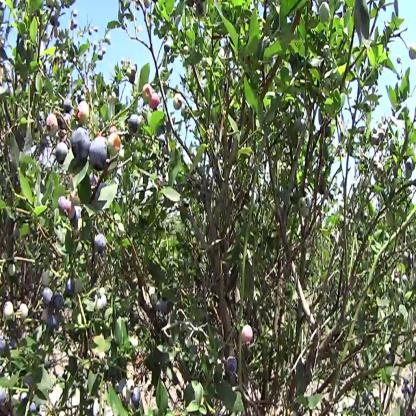intermediate: (143, 84, 161, 109), (58, 197, 76, 220), (241, 326, 253, 344)
mature: (72, 129, 109, 170), (45, 289, 65, 311), (56, 143, 70, 166), (95, 233, 107, 254), (48, 314, 61, 333), (226, 359, 237, 376), (1, 391, 10, 410)
young: (77, 102, 91, 125), (110, 135, 122, 157), (47, 112, 57, 136), (320, 3, 330, 24), (19, 305, 30, 324), (3, 303, 14, 321), (127, 379, 136, 397), (174, 94, 184, 110)
